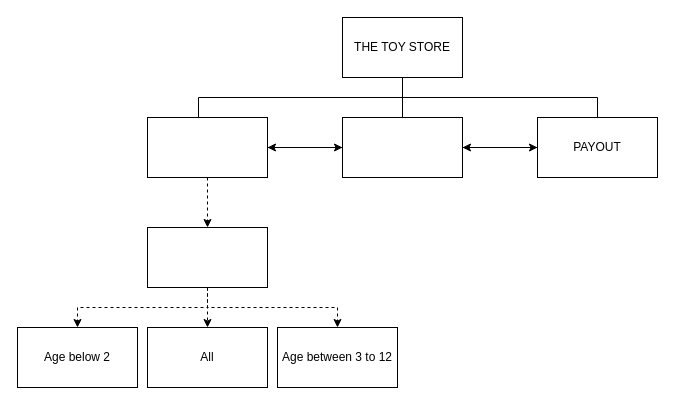
The diagram is 675 pixels wide and 405 high, and some of its shapes have lost their labels. Each missing label, with the centre of its shape:
"Category" belongs at (207,257).
"HOME" belongs at (207,147).
"YOUR CART" belongs at (402,147).
